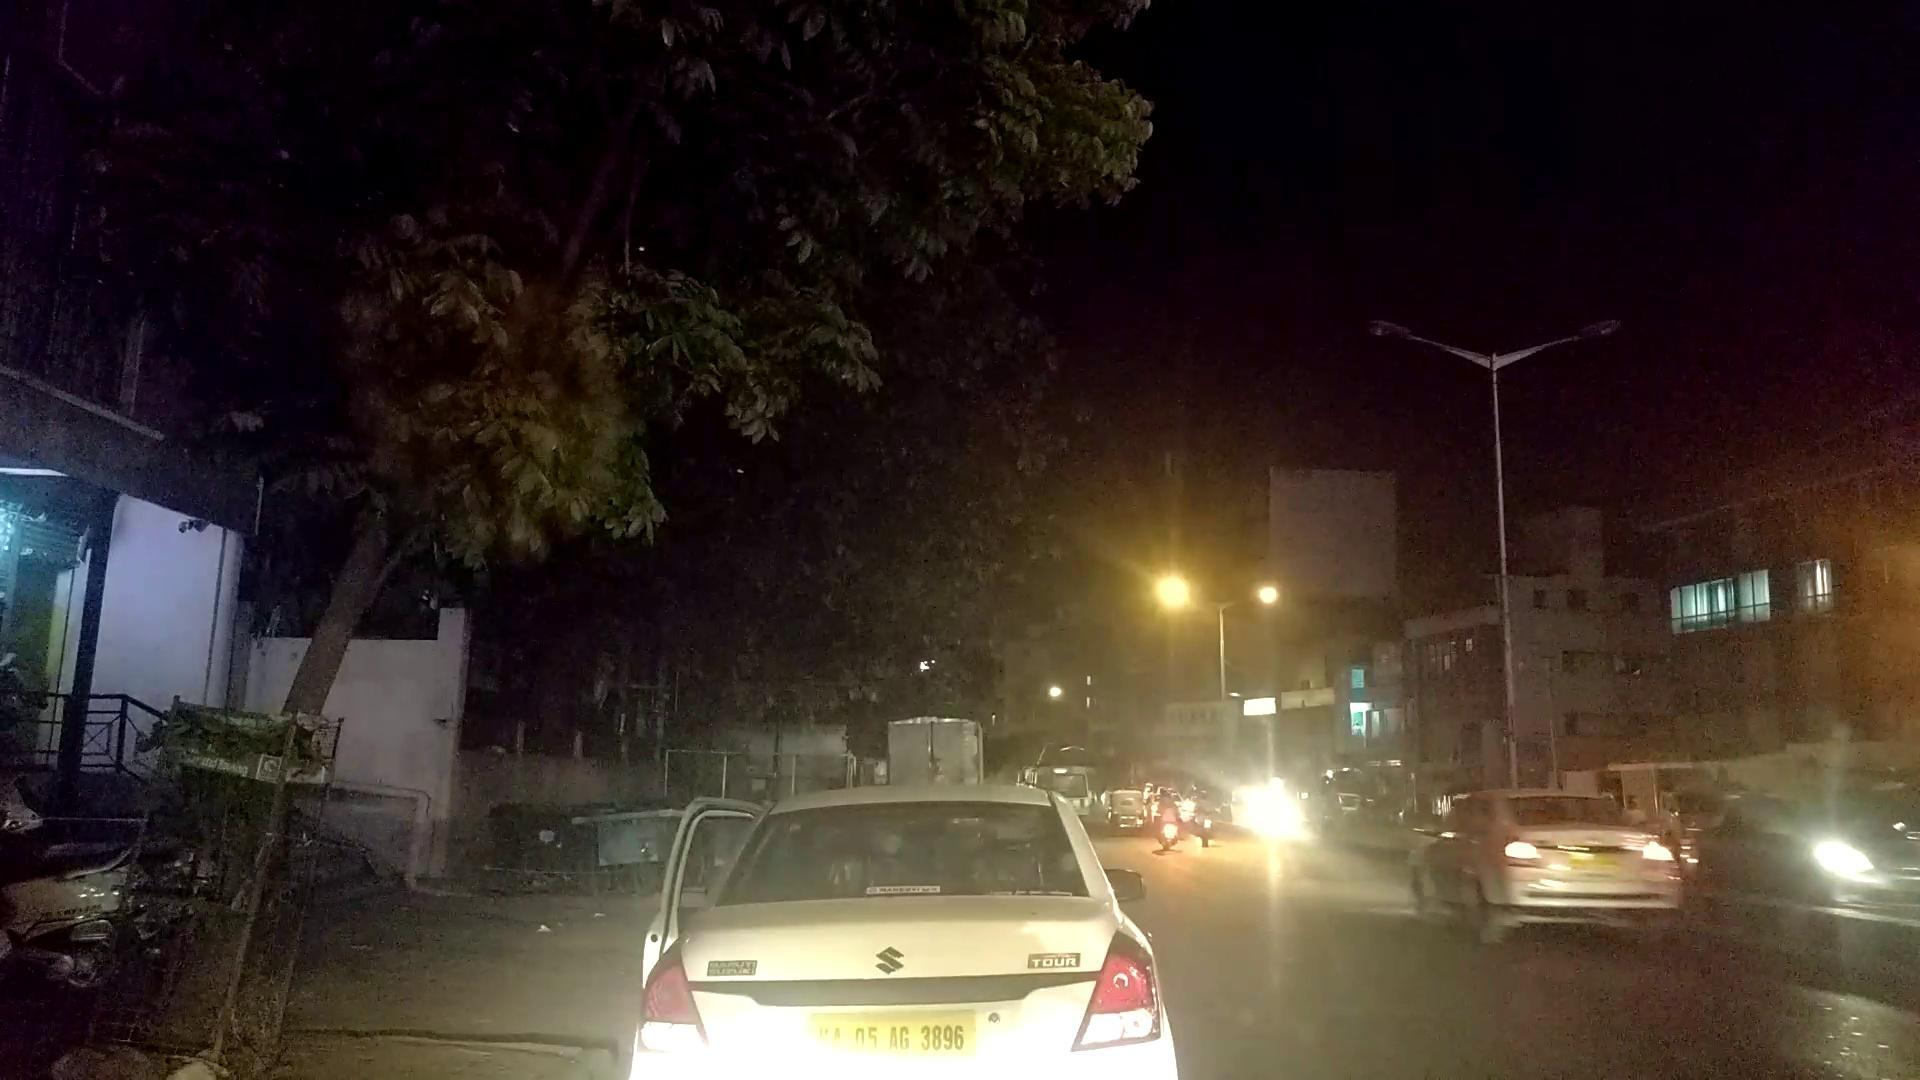on: (990, 483, 1671, 1035)
